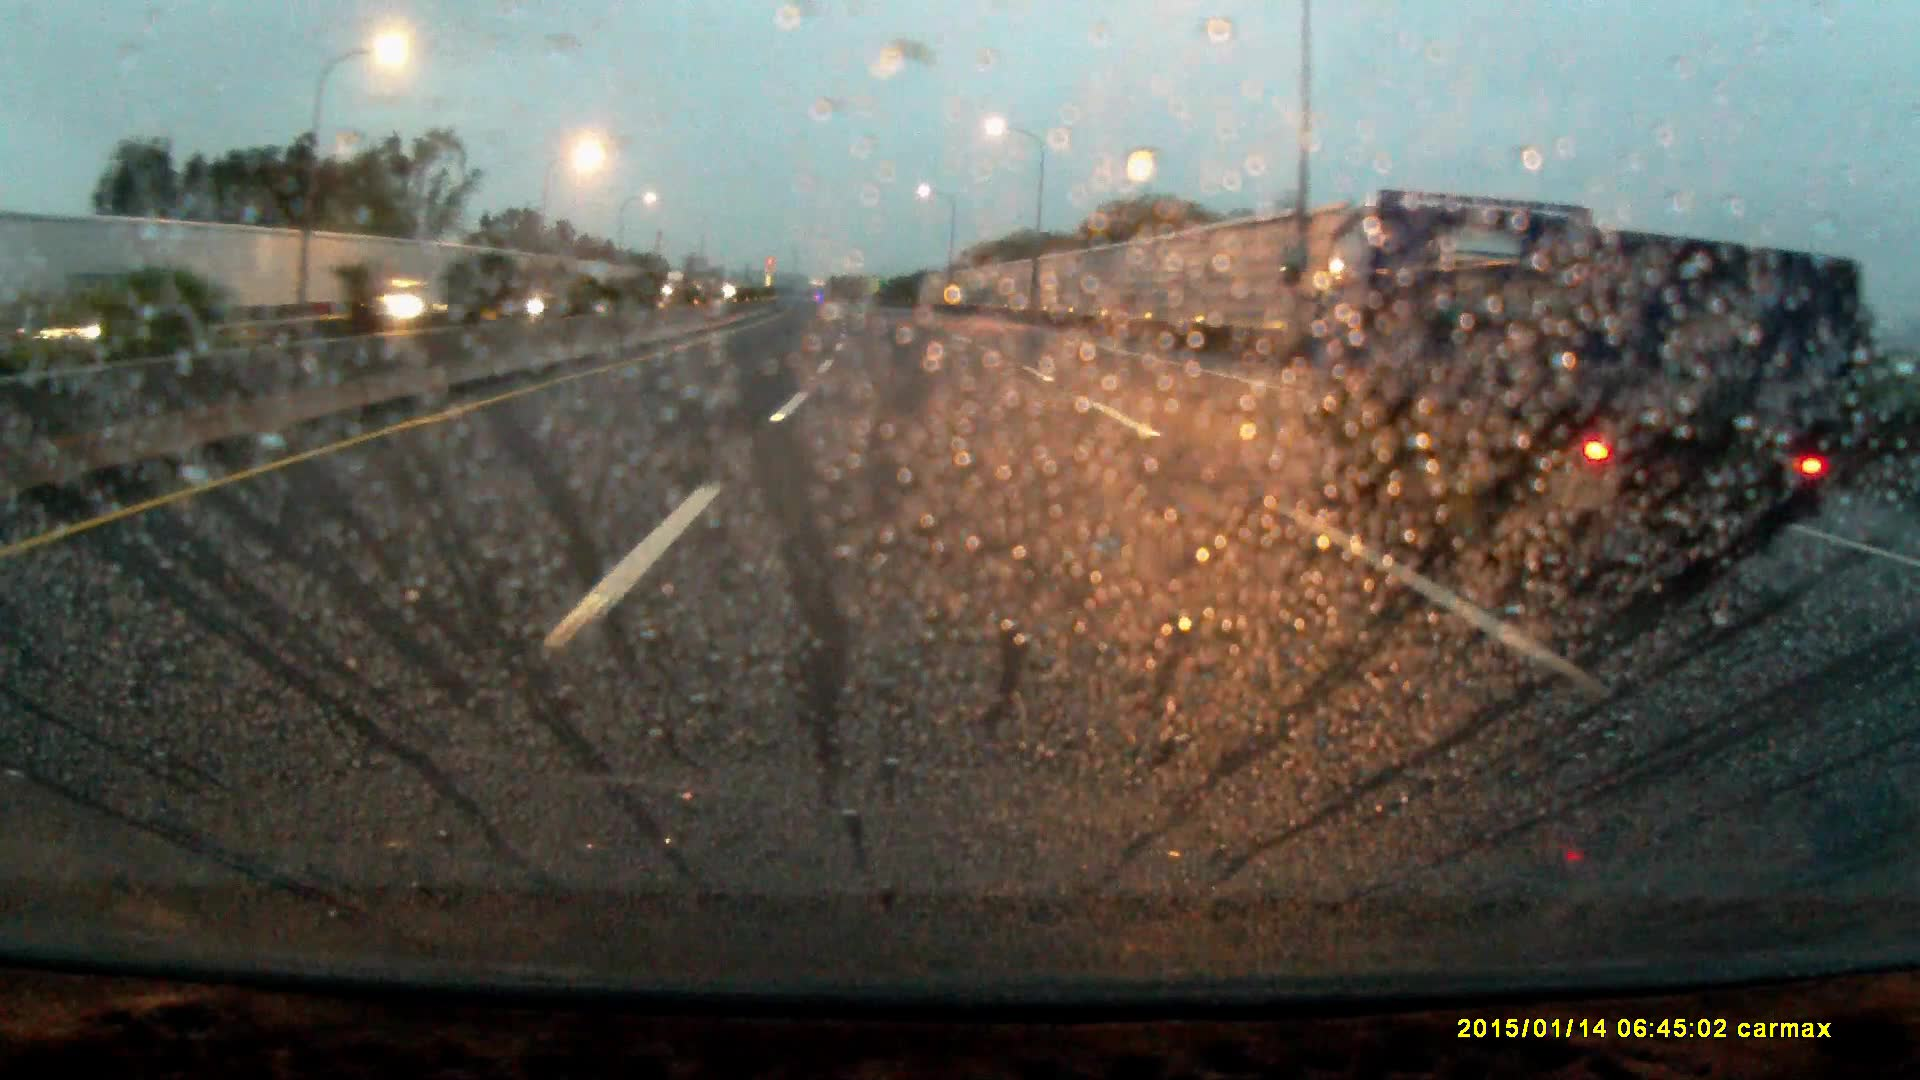vehicle: (1273, 195, 1838, 587), (33, 268, 233, 342), (365, 278, 444, 319), (493, 272, 564, 316)
